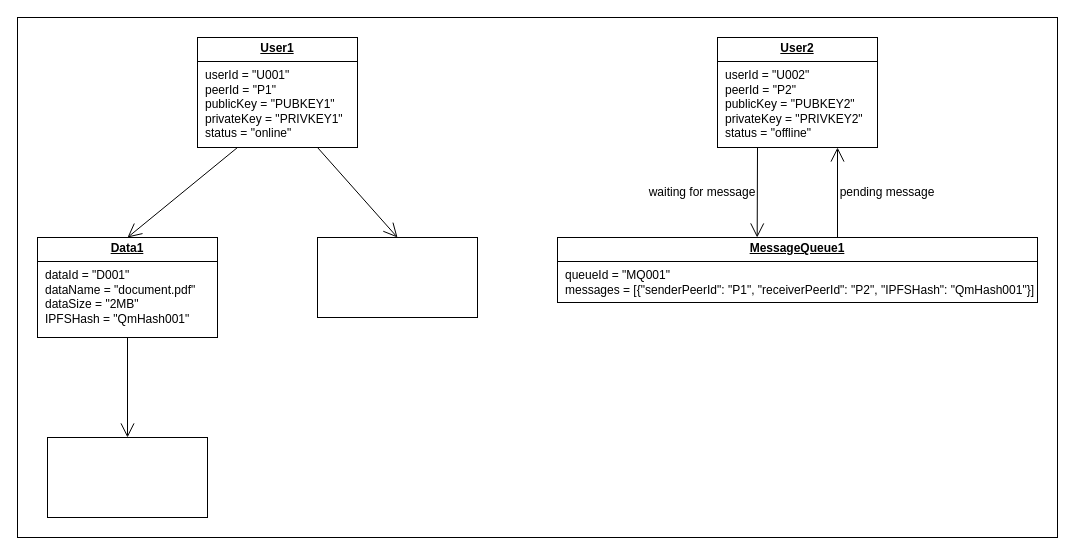
This 1075x555 diagram has some shape labels left out. Each missing label, with the centre of its shape:
IPFSStorage1 dataId = "D001" IPFSHash = "QmHash001" storageStatus = "active": point (127, 477)
Lipbp2pNetwork1 connectedPeers = [P1] peerId = "P1" networkConfig = "default": point (397, 277)
